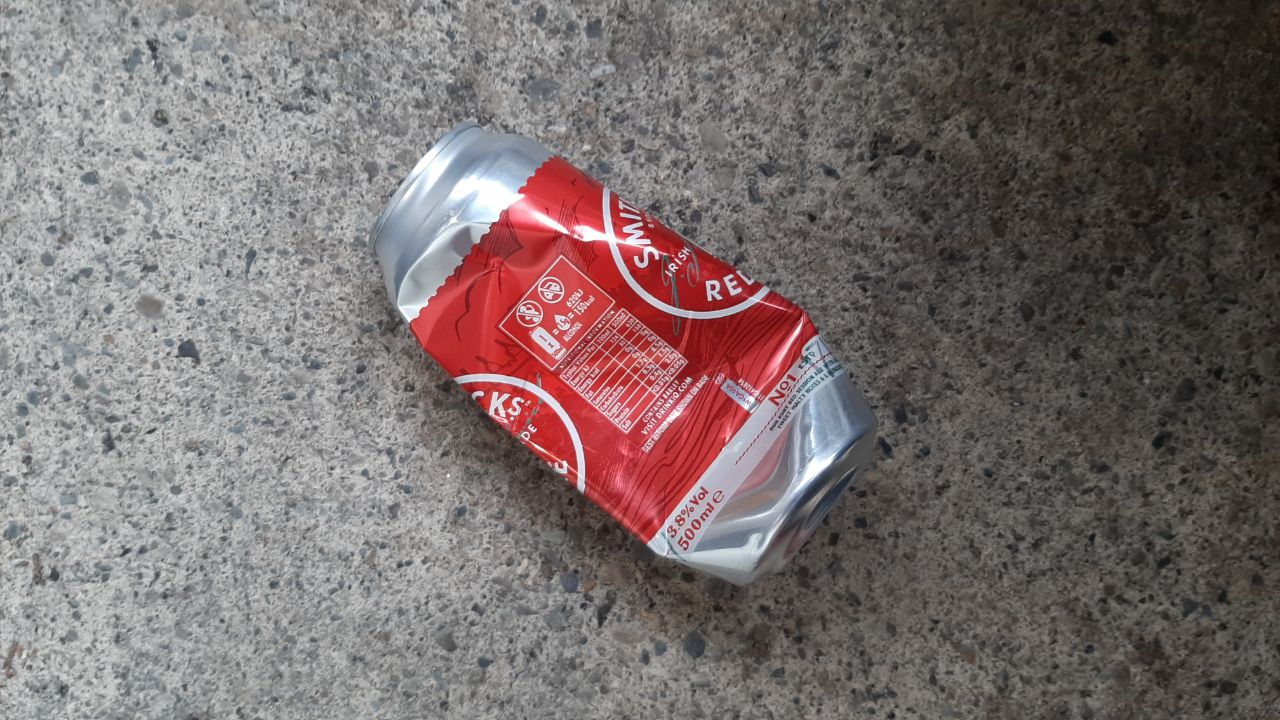Can: (369, 122, 881, 593)
